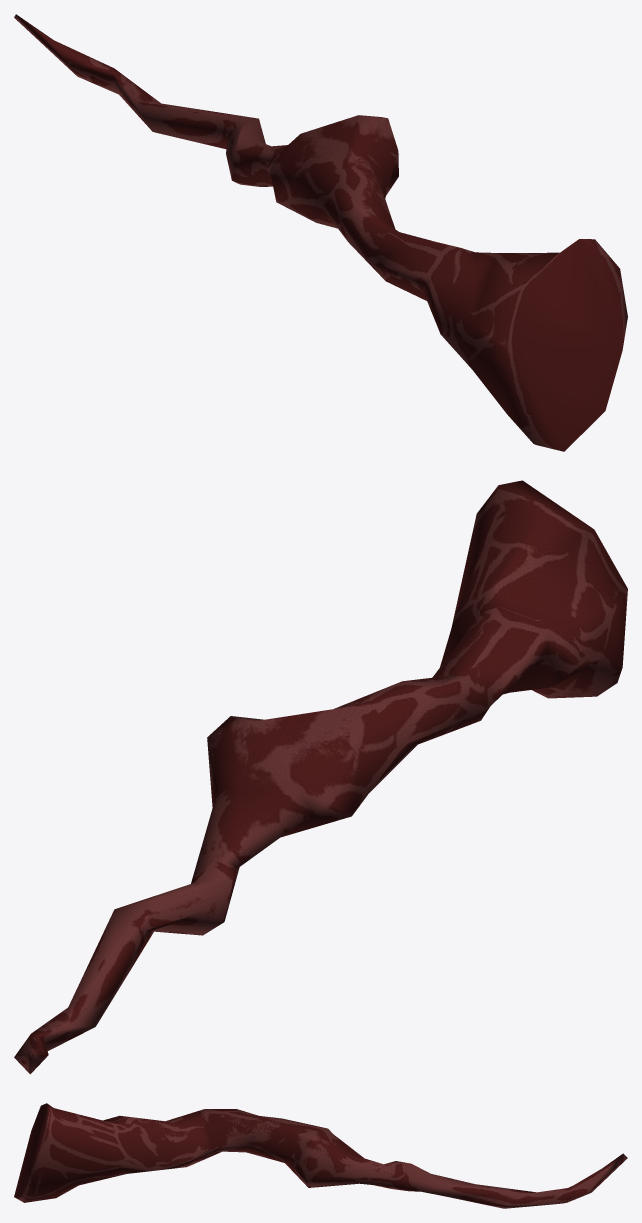
The model's file is Branch.fbx.
The picture shows the model from 3 angles, top to bottom: view 1: azimuth 30°, elevation 25°; view 2: azimuth 150°, elevation 25°; view 3: azimuth 270°, elevation 25°; orthographic projection. The views are drawn at different scales.
Parts seen in each view (by area): view 1: Chameleneon; view 2: Chameleneon; view 3: Chameleneon.
Part boxes in pixels (<box>): Chameleneon: <box>14,14,627,451</box>; Chameleneon: <box>14,480,627,1074</box>; Chameleneon: <box>14,1103,627,1208</box>.
Bounding box in the file's own units: 4259 × 5437 × 27920.
